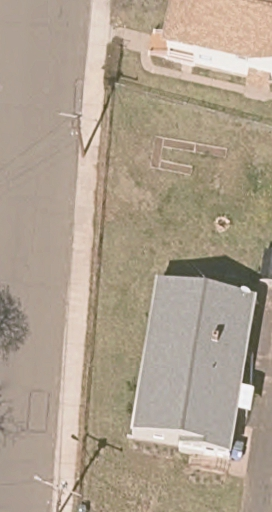DT: (32, 472, 82, 512), (60, 110, 96, 156)
